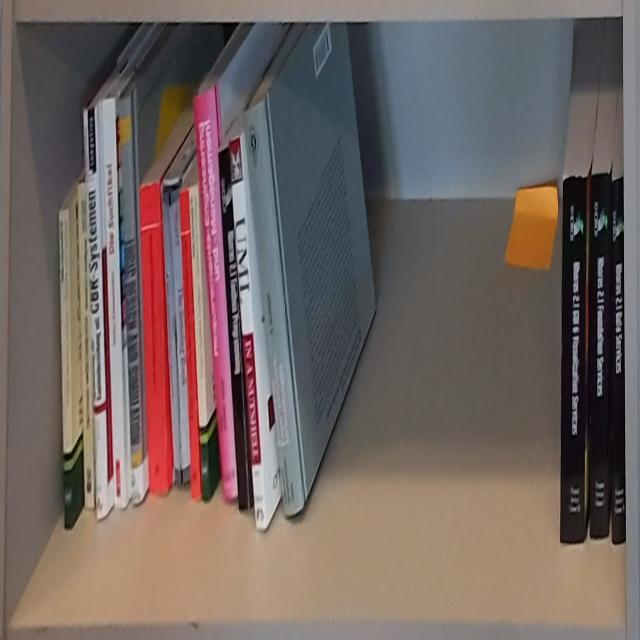Book Spine: (244, 98, 306, 518), (193, 90, 237, 501), (229, 135, 265, 532), (218, 148, 250, 511), (83, 110, 110, 520), (101, 101, 127, 510), (119, 101, 144, 506), (560, 177, 587, 546), (140, 184, 169, 497), (590, 174, 612, 537), (189, 181, 211, 505), (179, 191, 201, 506), (171, 189, 191, 487), (162, 189, 182, 486), (77, 182, 94, 512), (612, 174, 626, 545), (59, 210, 73, 531)
